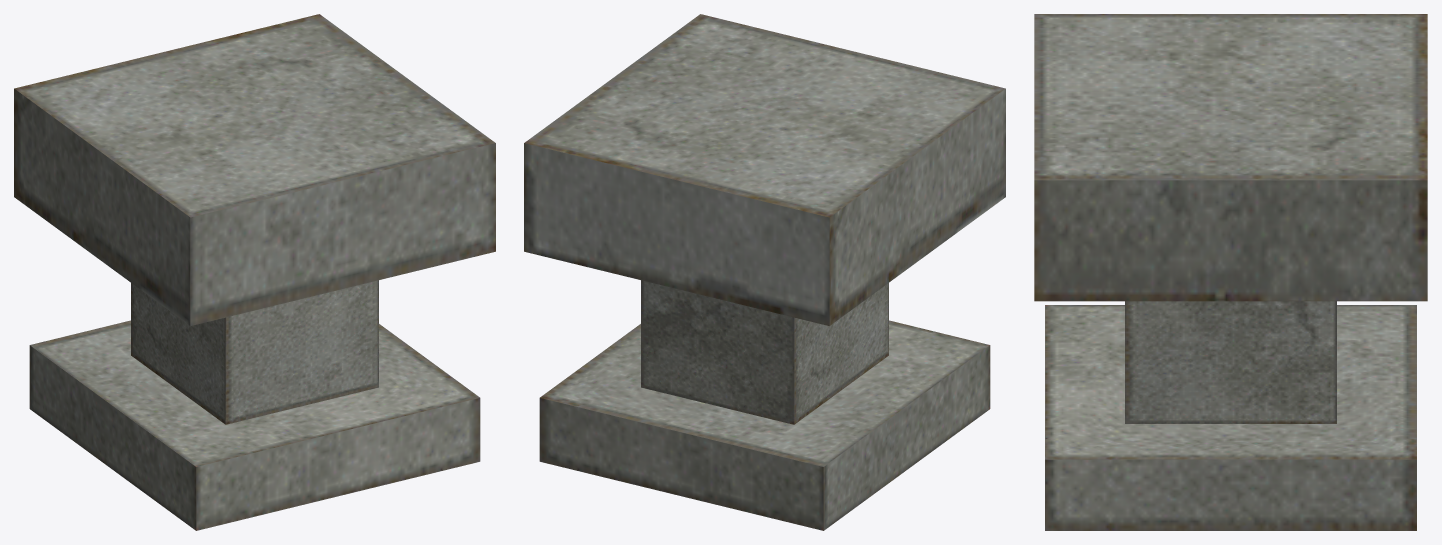
The model's file is altar_sml.fbx.
3 renders of one model, left to right at view 1: azimuth 30°, elevation 25°; view 2: azimuth 150°, elevation 25°; view 3: azimuth 270°, elevation 25°, orthographic. The views are drawn at different scales.
Parts seen in each view (by area): view 1: alter_sml; view 2: alter_sml; view 3: alter_sml.
Part boxes in pixels (box(x1,y1,x2,y2)): alter_sml: box(14, 14, 495, 530); alter_sml: box(524, 14, 1005, 530); alter_sml: box(1034, 14, 1427, 530).
Size of the model in its own units: 50 by 50 by 50.
